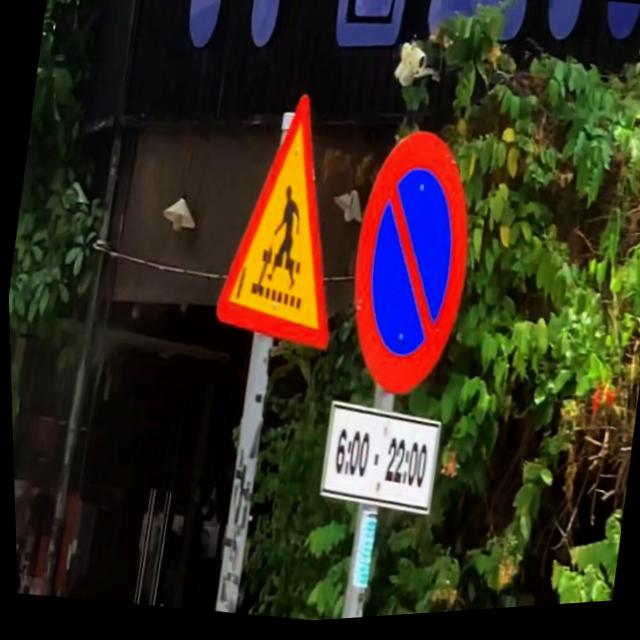Cam do xe: (331, 120, 488, 412)
Nguoi di bo cat ngang: (196, 73, 373, 374)
